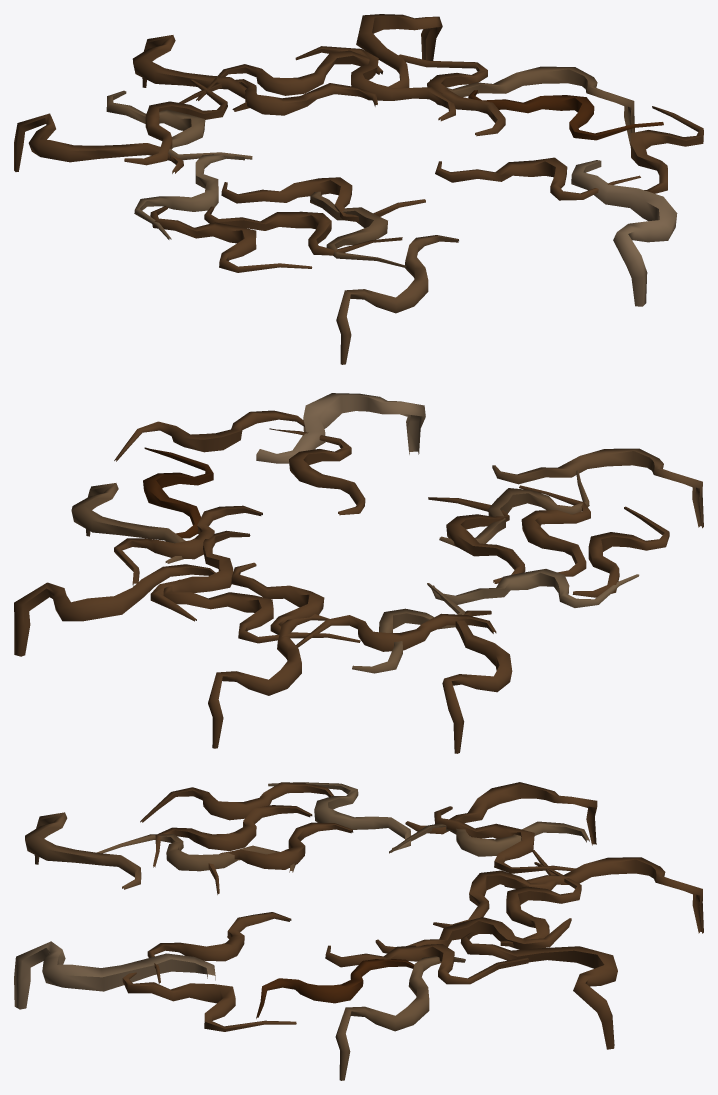
Rendered from roots_02.fbx.
3 renders of one model, top to bottom at view 1: azimuth 30°, elevation 25°; view 2: azimuth 150°, elevation 25°; view 3: azimuth 270°, elevation 25°, orthographic. The views are drawn at different scales.
Parts seen in each view (by area): view 1: Plane.128; view 2: Plane.128; view 3: Plane.128.
Part boxes in pixels (bbox=[...]): Plane.128: bbox=[14, 14, 703, 364]; Plane.128: bbox=[14, 393, 703, 753]; Plane.128: bbox=[14, 782, 703, 1080].
Size of the model in its own units: 1121 by 149 by 1316.
